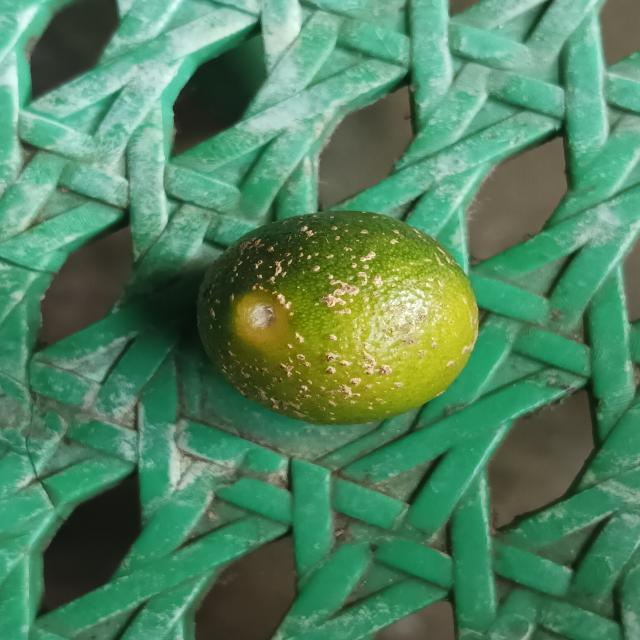scab: (188, 205, 484, 428)
